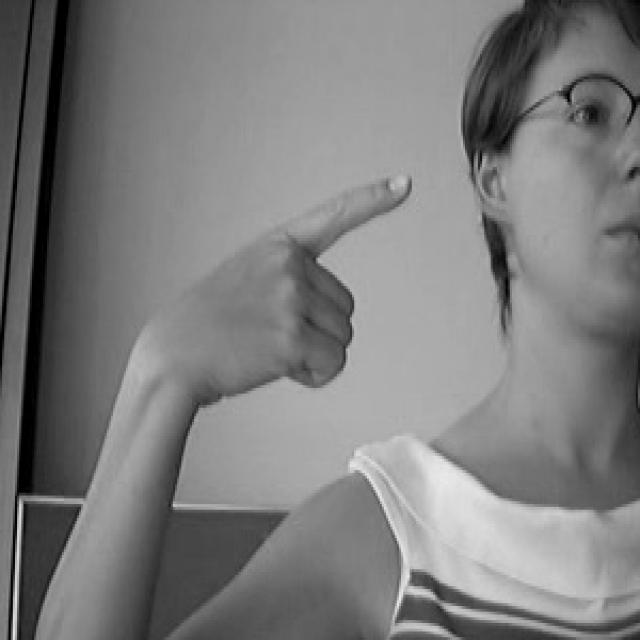G: (139, 147, 430, 455)
